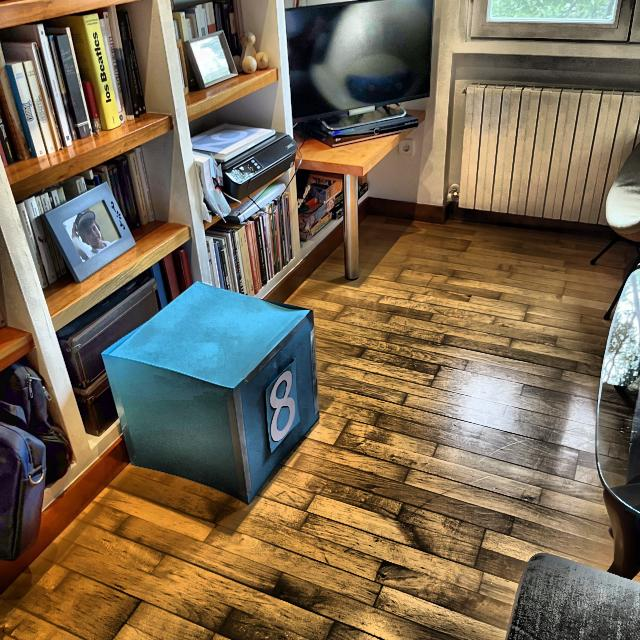blue box: (103, 280, 327, 506)
eight: (269, 367, 296, 442)
